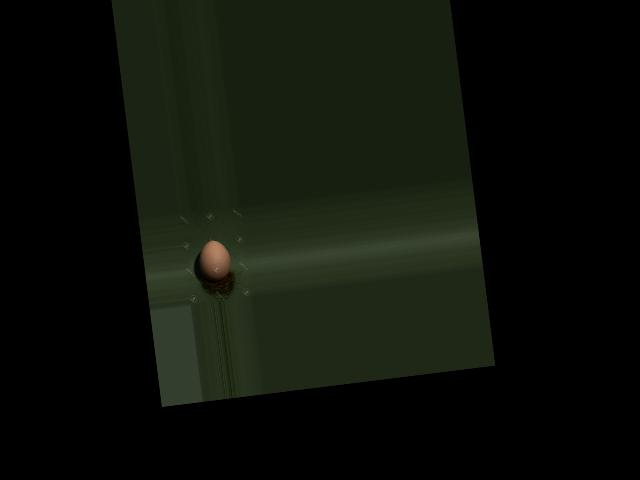egg: (196, 238, 232, 282)
